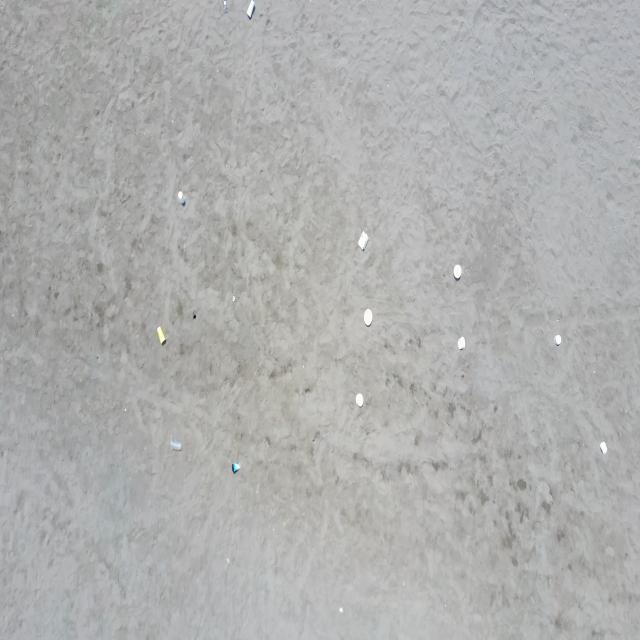take-away-containers: (358, 230, 369, 250), (364, 308, 372, 327), (454, 264, 462, 280), (356, 393, 364, 408), (600, 441, 608, 455), (458, 337, 466, 350), (554, 334, 562, 346)
takeaway-cup: (157, 326, 166, 346), (246, 0, 255, 19), (171, 438, 182, 452), (178, 190, 185, 204), (232, 462, 240, 473), (222, 0, 228, 13)
